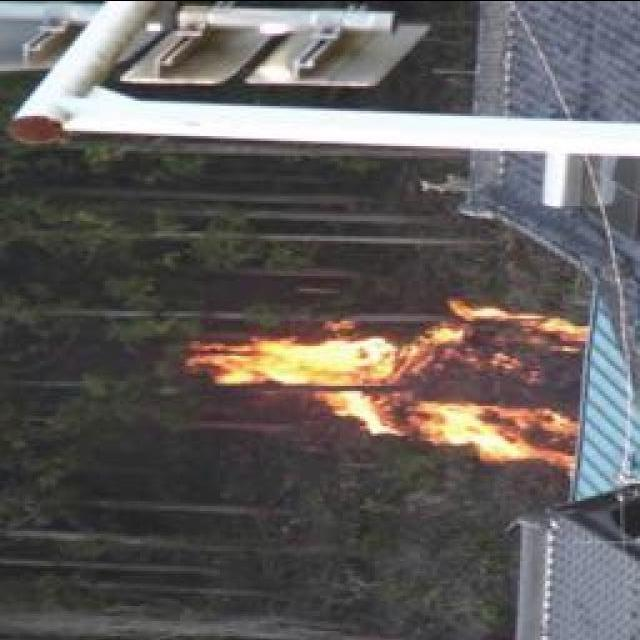Fire: (218, 291, 594, 471)
